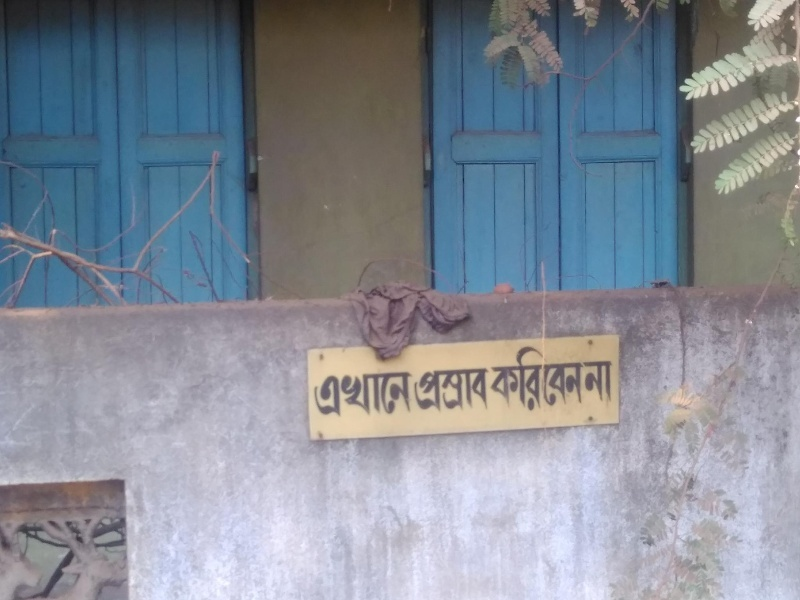text: (497, 339, 512, 414), (513, 339, 528, 414), (529, 339, 544, 414), (545, 339, 560, 414), (561, 339, 576, 414), (401, 370, 417, 423), (321, 370, 336, 423), (337, 370, 352, 423), (353, 370, 368, 423), (369, 370, 384, 423), (385, 370, 400, 423), (417, 367, 432, 418), (433, 367, 448, 418), (449, 367, 464, 418), (465, 367, 480, 418), (486, 339, 496, 414), (593, 356, 608, 403), (577, 339, 585, 414), (481, 367, 490, 418), (584, 356, 592, 403), (313, 370, 320, 423), (609, 356, 614, 403), (415, 367, 416, 418)
